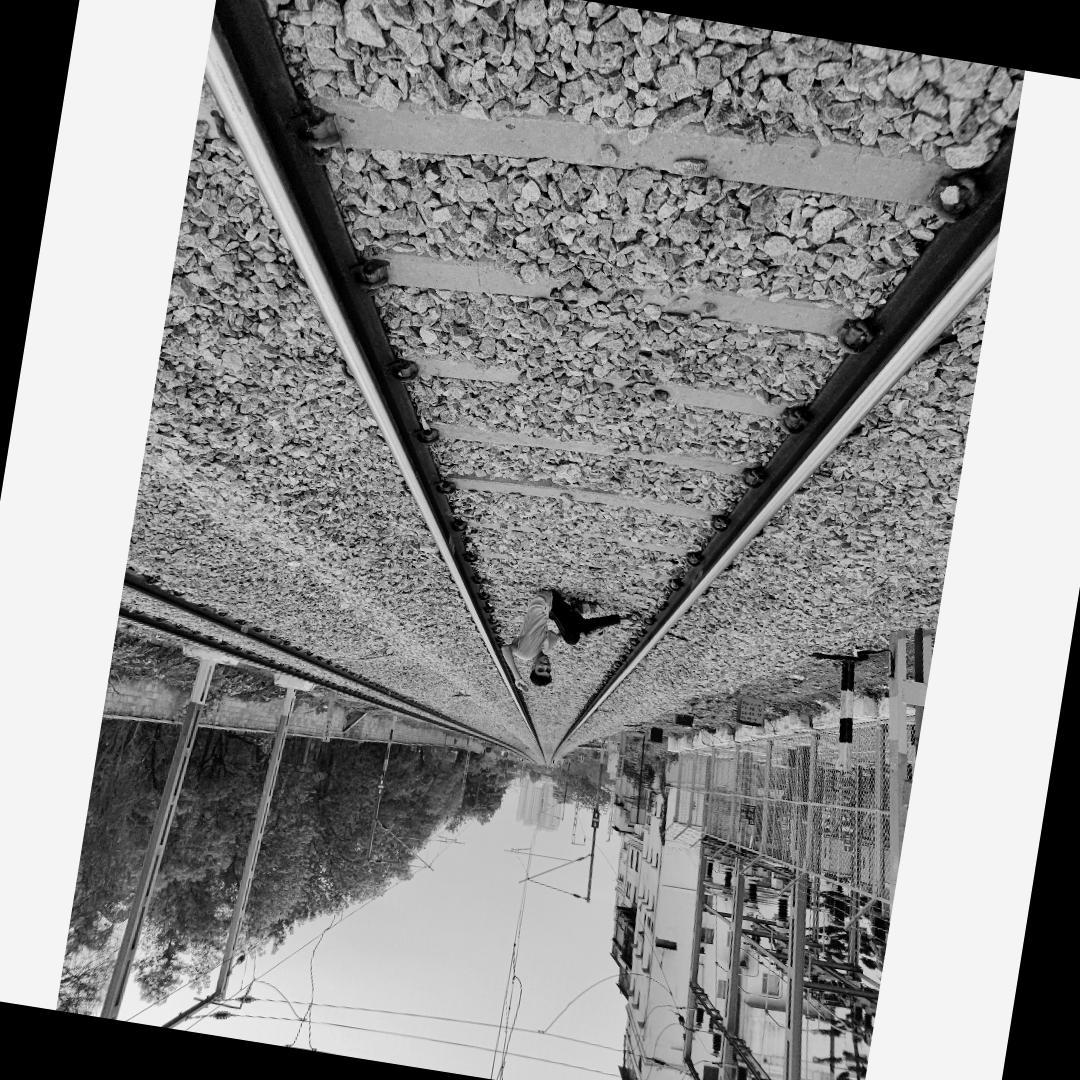sitting: (494, 581, 645, 708)
track: (199, 0, 1024, 778)
